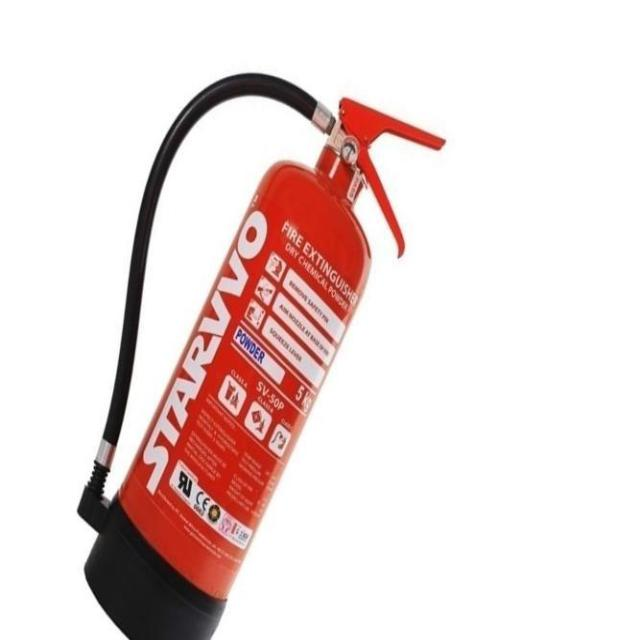fire_extinguisher: (69, 65, 449, 639)
